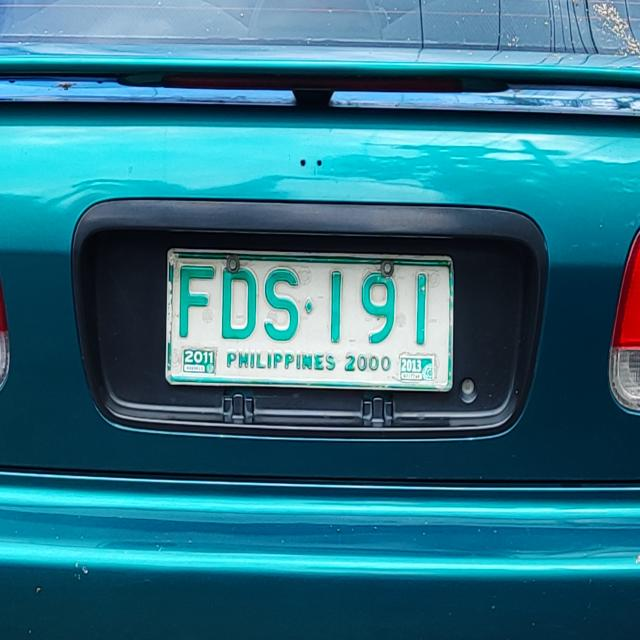plate: (164, 245, 455, 394)
